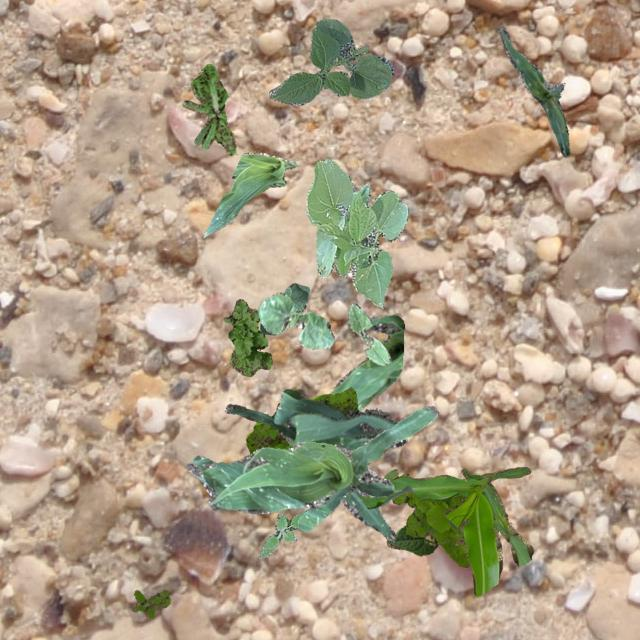crop: (186, 404, 437, 530), (224, 388, 404, 540), (357, 466, 532, 596), (306, 158, 406, 306), (268, 19, 392, 104), (498, 26, 568, 156), (204, 152, 296, 236), (329, 314, 404, 409), (256, 292, 334, 348), (346, 302, 391, 364), (258, 282, 308, 334), (386, 524, 462, 554)
weed: (382, 468, 468, 566), (245, 386, 356, 454), (182, 62, 234, 154), (222, 298, 270, 376), (257, 510, 305, 558), (130, 588, 168, 618)
